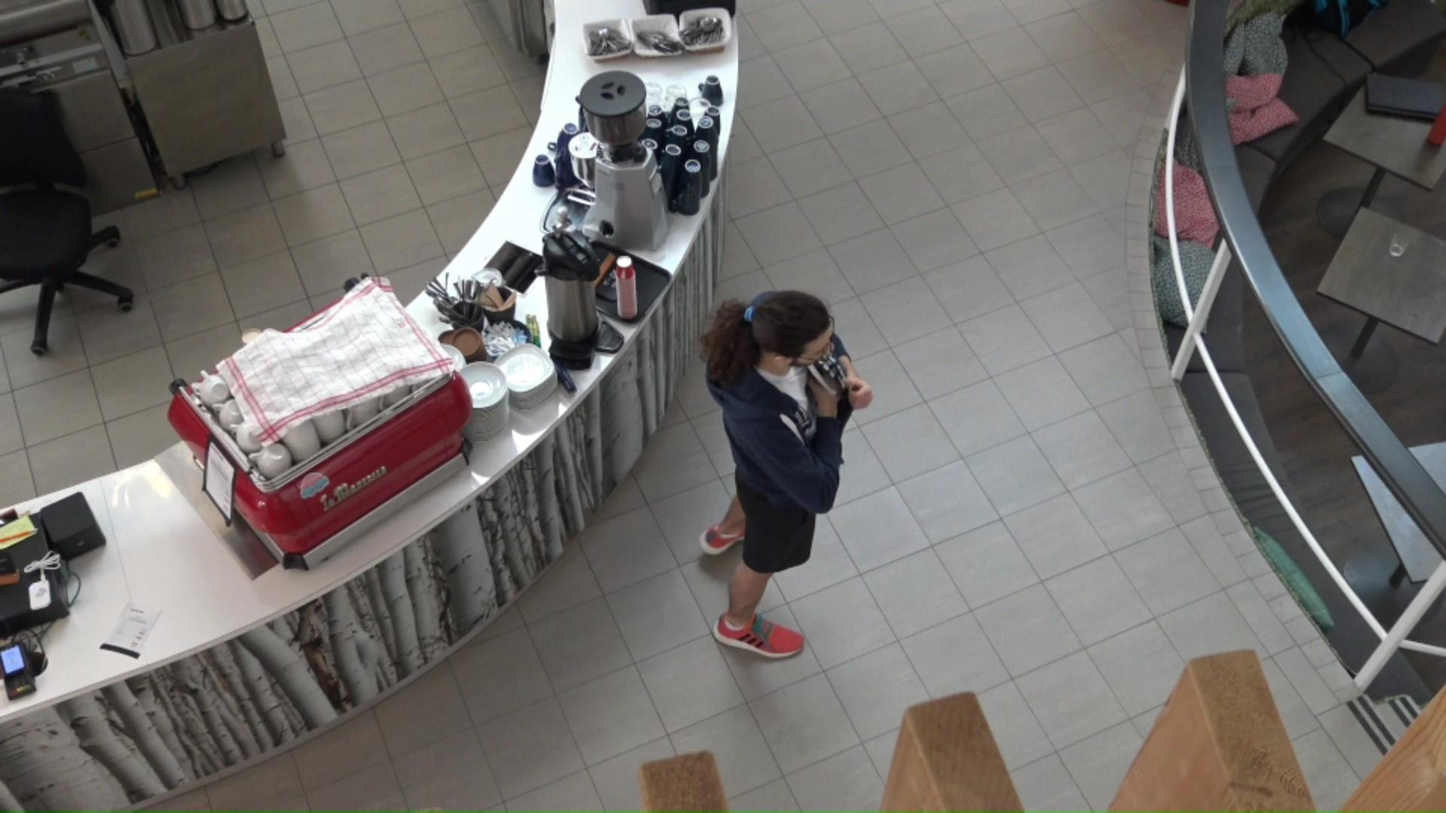shoplifting: (703, 288, 875, 661)
